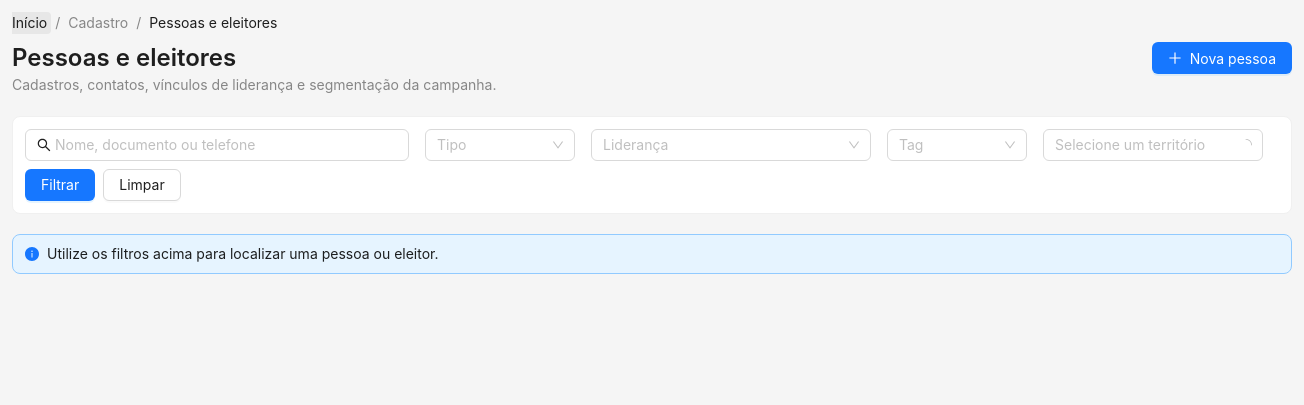
Test case: CadastroPage › não carrega a listagem inicial para telefonista e exige uma busca válida
Expected: the text "Utilize os filtros acima para localizar uma pessoa ou eleitor." is shown, top-left (47, 245), bottom-right (438, 262)
Expected: the button "Nova pessoa" is shown, top-left (1152, 42), bottom-right (1292, 74)
Click the button "Filtrar": {"x": 60, "y": 185} top-left (25, 169), bottom-right (95, 201)
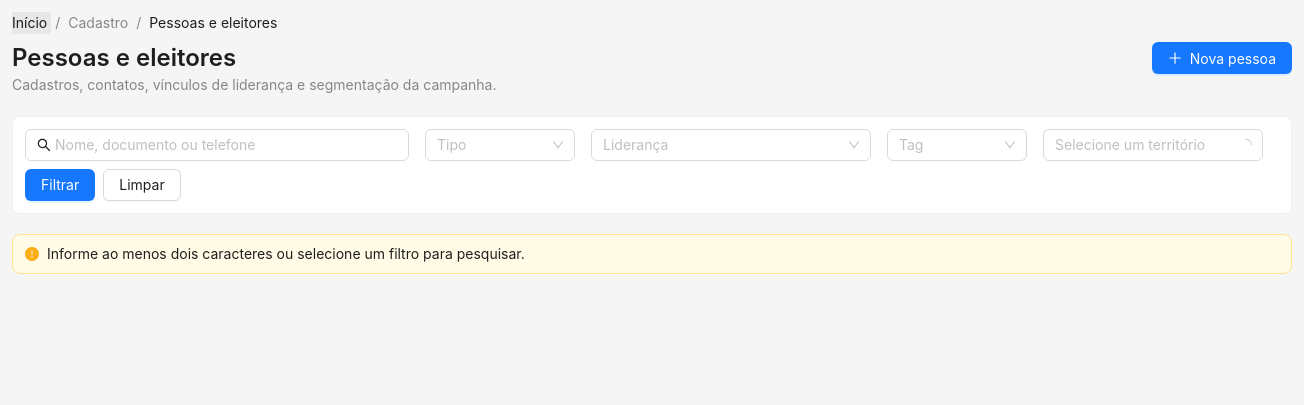
Now the text "Informe ao menos dois caracteres ou selecione um filtro para pesquisar." is shown, box top-left (47, 245), bottom-right (525, 262)
In the field with placeholder "Nome, documento ou telefone": {"x": 218, "y": 145} top-left (55, 134), bottom-right (381, 156), type "Maria"
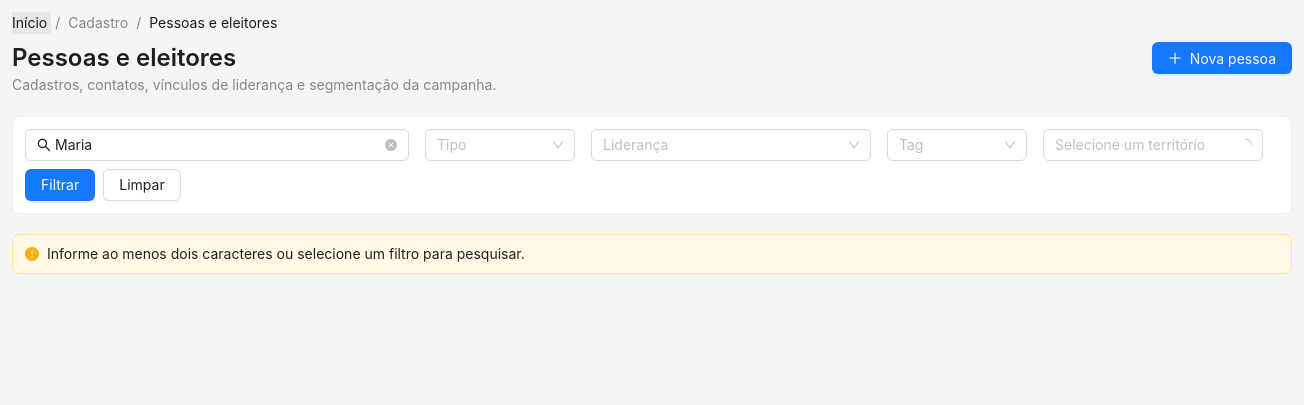
Click the button "Filtrar": {"x": 60, "y": 185} top-left (25, 169), bottom-right (95, 201)
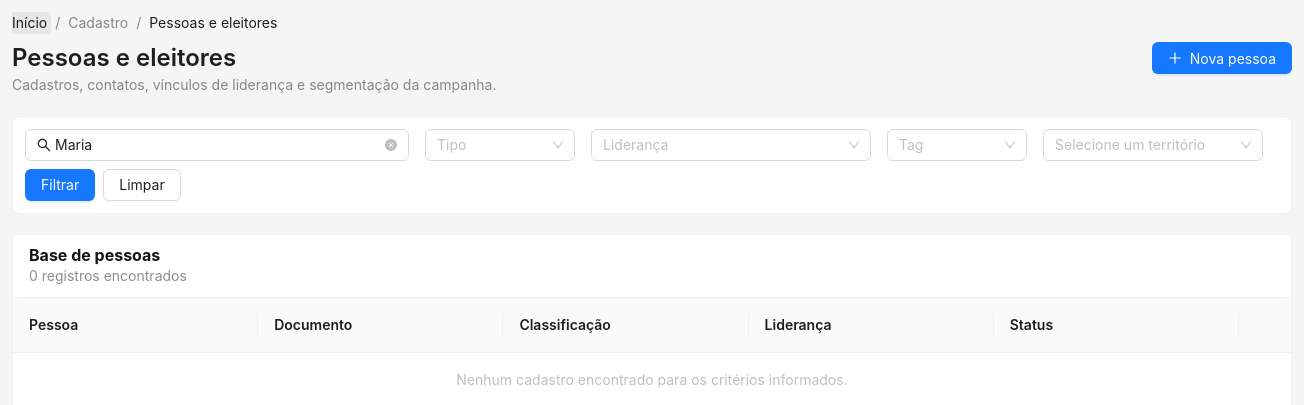
Now the text "Nenhum cadastro encontrado para os critérios informados." is shown, box top-left (456, 371), bottom-right (848, 388)
